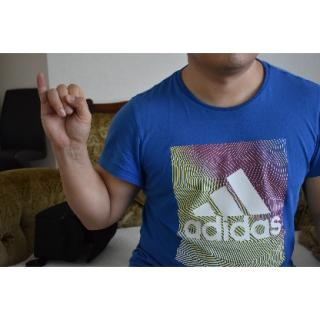MEEM: (32, 69, 96, 158)
